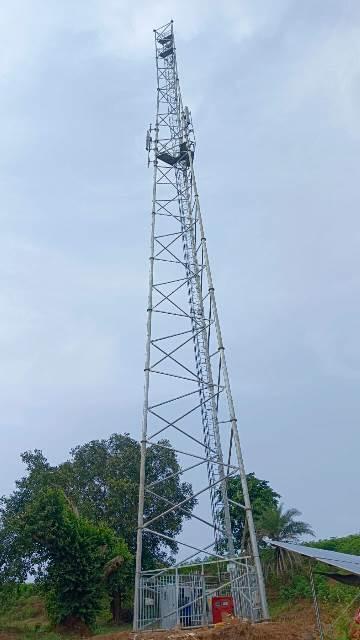GSM Antenna: (144, 127, 152, 155), (182, 104, 192, 126)
